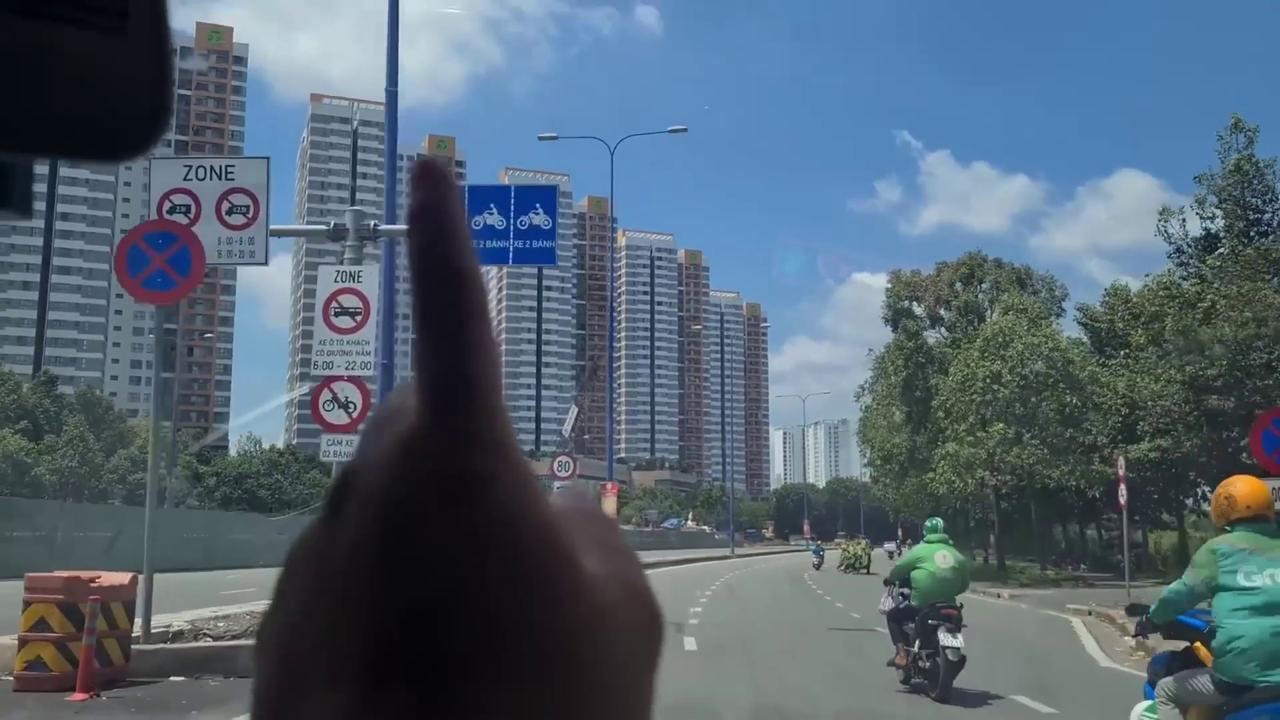Biển phụ: (318, 432, 364, 464)
Cấm cac phương tiện hoạt động trong khung giờ cố định: (142, 156, 272, 268), (310, 259, 380, 378)
Cấm dừng - Cấm đỗ: (113, 218, 209, 306)
Cấm xe máy: (310, 372, 372, 433)
Giới hạn tốc độ 80Km/h: (550, 451, 578, 481)
Làn đường cho từng xe: (417, 180, 561, 270)
